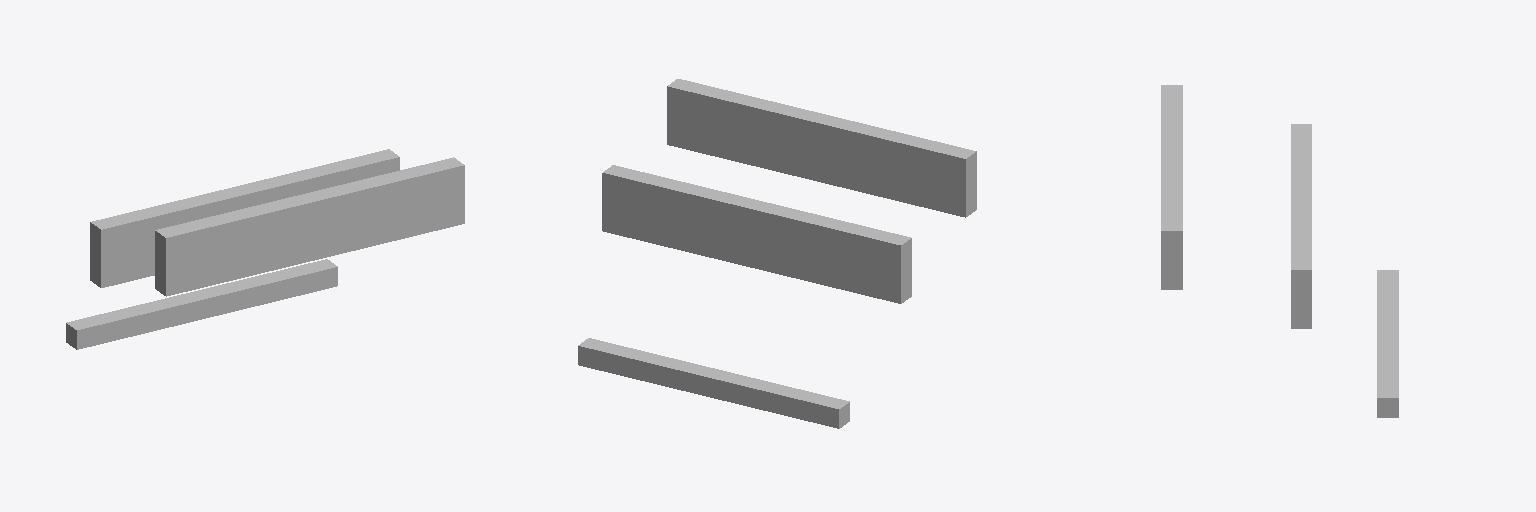
The model's file is loom_4.obj.
3 renders of one model, left to right at view 1: azimuth 30°, elevation 25°; view 2: azimuth 150°, elevation 25°; view 3: azimuth 270°, elevation 25°, orthographic.
Visible parts, largest first — view 1: node_0_0_0; view 2: node_0_0_0; view 3: node_0_0_0.
Part boxes in pixels (bbox=[...]): node_0_0_0: bbox=[66, 149, 464, 349]; node_0_0_0: bbox=[578, 79, 976, 428]; node_0_0_0: bbox=[1161, 85, 1398, 417].
Size of the model in its own units: 1 by 0.625 by 0.6875.